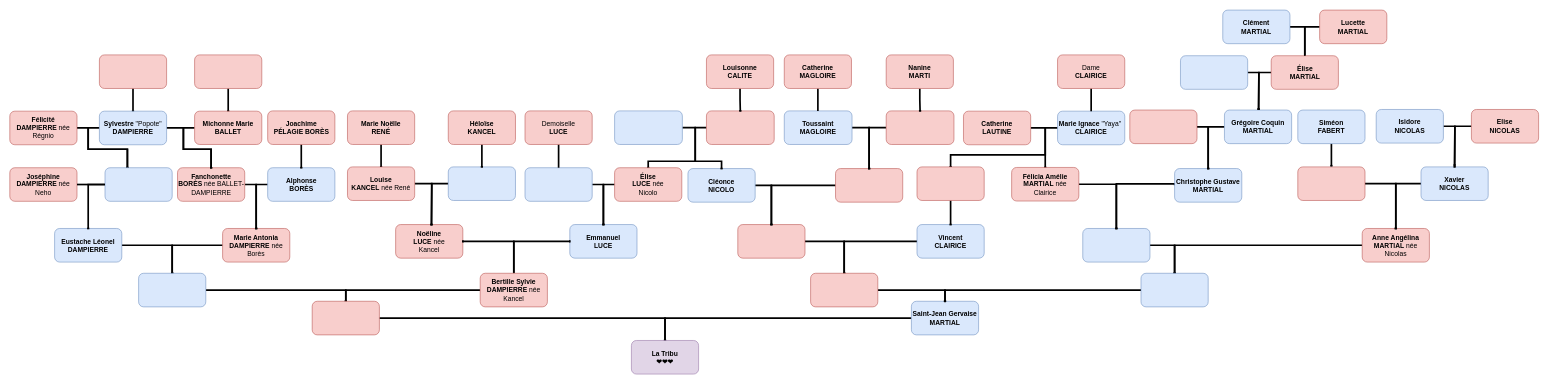
This 1548x384 diagram has some shape labels left out. The shapes that lost their labels are listed below. From the top down, each one's centre as x and y in pixels, then its label:
At (133,71): "Fanchon DAMPIERRE".
At (228,71): "Marie Ursule BALLET".
At (1214,72): "Grégoire MARTIAL".
At (648,127): "Léon NICOLO".
At (740,127): "Ambroisine NICOLO née Calite".
At (920,127): "Elisabeth MAGLOIRE née Marti".
At (1163,126): "Fanchonette FANCHON".
At (138,184): "Léon DAMPIERRE".
At (481,183): "Silvestre KANCEL".
At (558,184): "Policarpe LUCE".
At (869,185): "Avrilette NICOLO née Magloire".
At (950,183): "Hortance Ernestine NICOLO née Yaya Clairice".
At (1331,183): "Annette NICOLAS née Fabert".
At (771,241): "Marie Simpriette CLAIRICE née Nicolo".
At (1116,245): "Benjamin MARTIAL".
At (172,290): "Savinien Eucher Gervais DAMPIERRE".
At (844,290): "Joséphine MARTIAL née Clairice".
At (1174,290): "Charlemagne Nicolas MARTIAL".
At (345,318): "Lucide Berthe Émilie MARTIAL née Dampierre".
